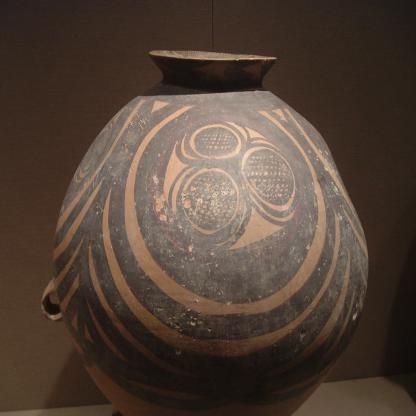vase: (40, 52, 368, 415)
